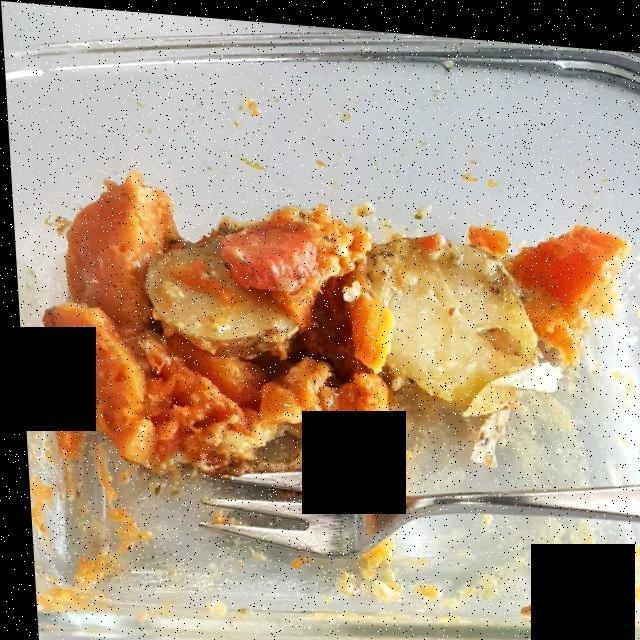carrot: (218, 218, 614, 300)
potatoes: (149, 232, 534, 391)
pumpkin: (109, 328, 397, 476)
sweet-potato: (59, 182, 181, 482)
